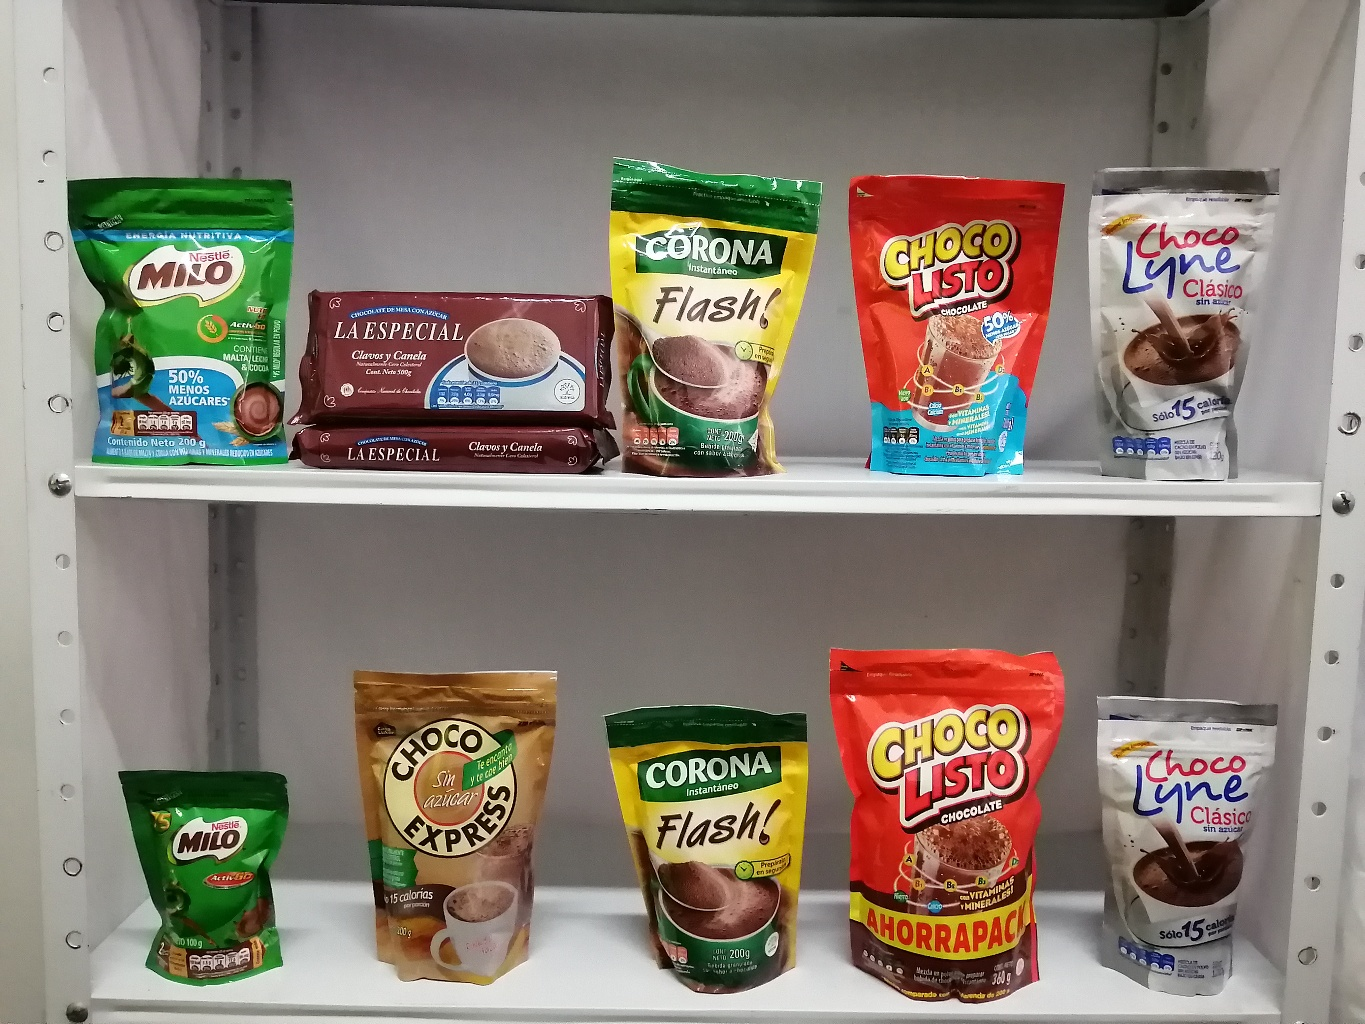COL0170103DYP36000: (823, 631, 1077, 1010)
COL0170104DYP20000: (836, 151, 1071, 475)
COL0170203DYP10000: (119, 755, 292, 986)
COL0170205DYP20000: (65, 170, 293, 467)
